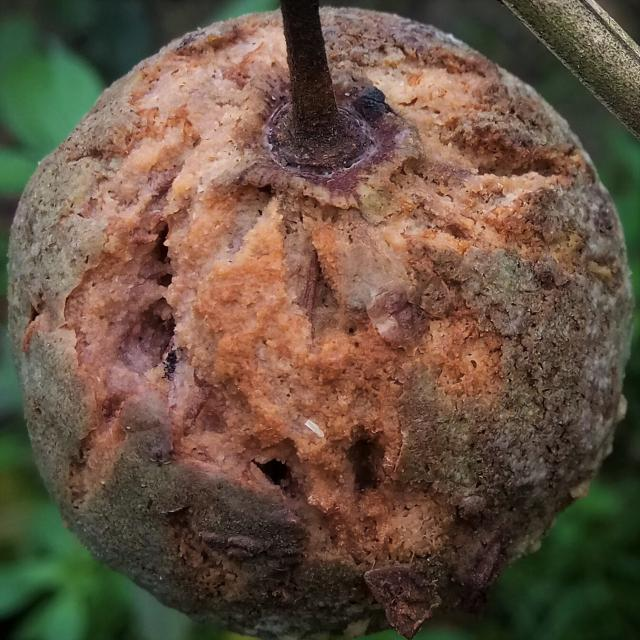Phytopthora: (10, 4, 632, 637)
